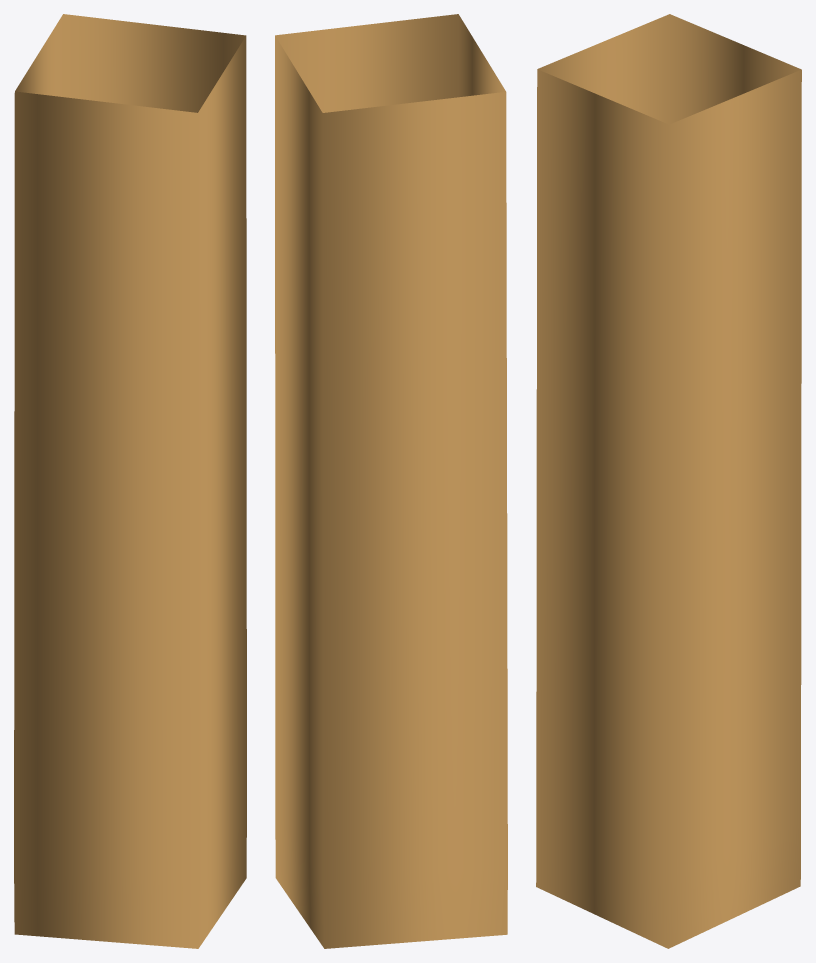
File: LimbHumerus.obj
The picture shows the model from 3 angles, left to right: view 1: azimuth 30°, elevation 25°; view 2: azimuth 150°, elevation 25°; view 3: azimuth 270°, elevation 25°; orthographic projection. The views are drawn at different scales.
Bounding box in the file's own units: 0.3857 × 1.33 × 0.3897.
1 material, 1 textured.
